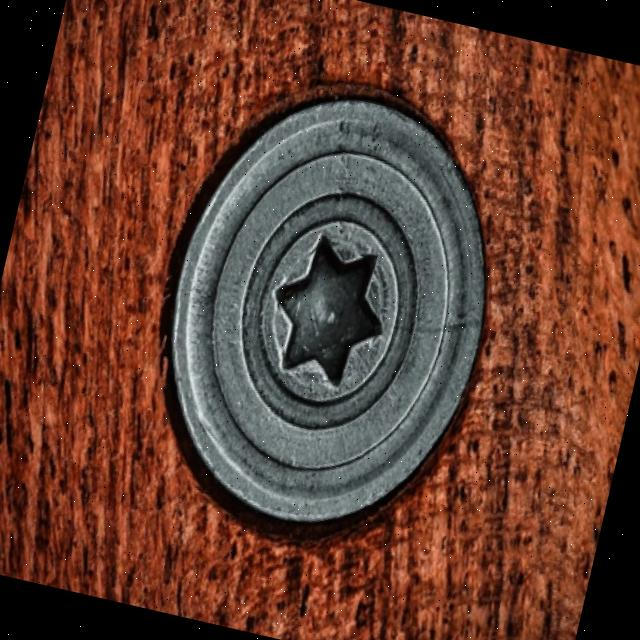Torx: (131, 64, 530, 557)
